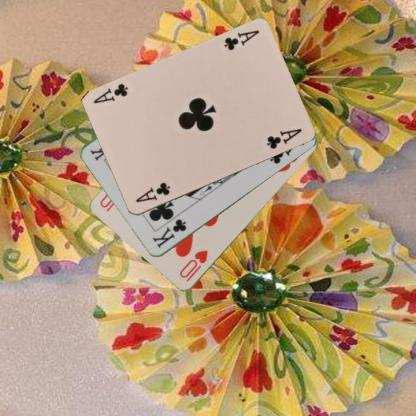10h: (177, 248, 209, 283)
Ac: (220, 28, 260, 52), (133, 180, 171, 204)
Kc: (150, 216, 188, 250)
